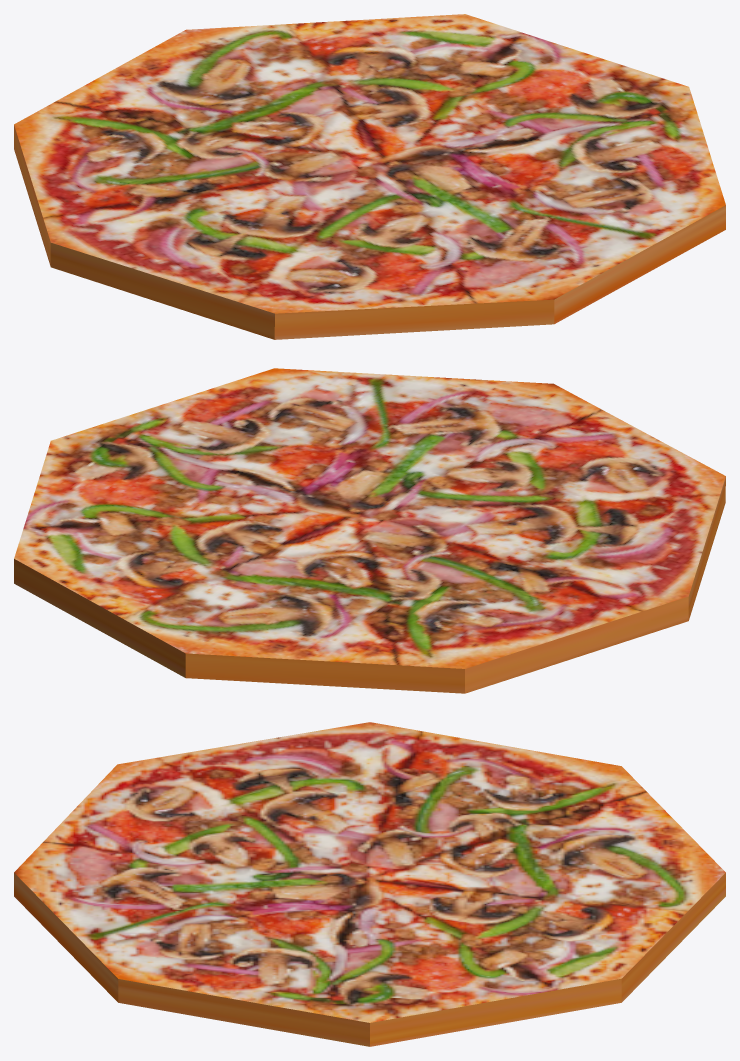
File: pizza.glb
3 renders of one model, top to bottom at view 1: azimuth 30°, elevation 25°; view 2: azimuth 150°, elevation 25°; view 3: azimuth 270°, elevation 25°, orthographic. The views are drawn at different scales.
Visible parts, largest first — view 1: Cylinder; view 2: Cylinder; view 3: Cylinder.
Part boxes in pixels (x1,y1,x2,y2): Cylinder: (14,14,725,339); Cylinder: (14,368,725,693); Cylinder: (14,722,725,1046).
Size of the model in its own units: 6.38 by 0.2539 by 6.38.
Materials: 1 (1 with a texture image).
